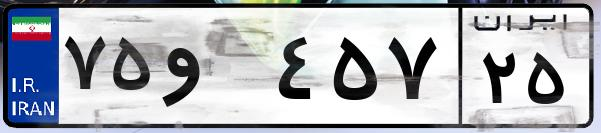2: (475, 38, 525, 113)
4: (270, 28, 330, 110)
5: (330, 28, 385, 110), (525, 38, 570, 115), (110, 28, 158, 98)
7: (385, 28, 445, 110), (57, 26, 110, 100)
و: (158, 20, 270, 120)
